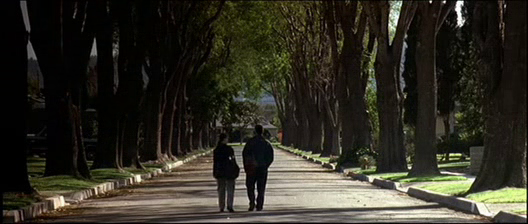els: (1, 1, 528, 224)
face_es: (255, 128, 262, 135), (223, 136, 228, 142)
person: (242, 124, 275, 211), (212, 130, 239, 211)
